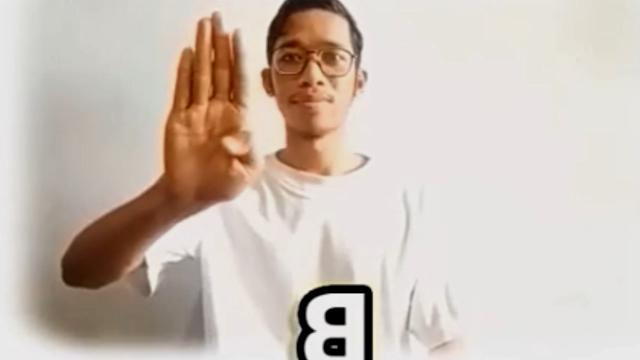B: (161, 8, 259, 206)
